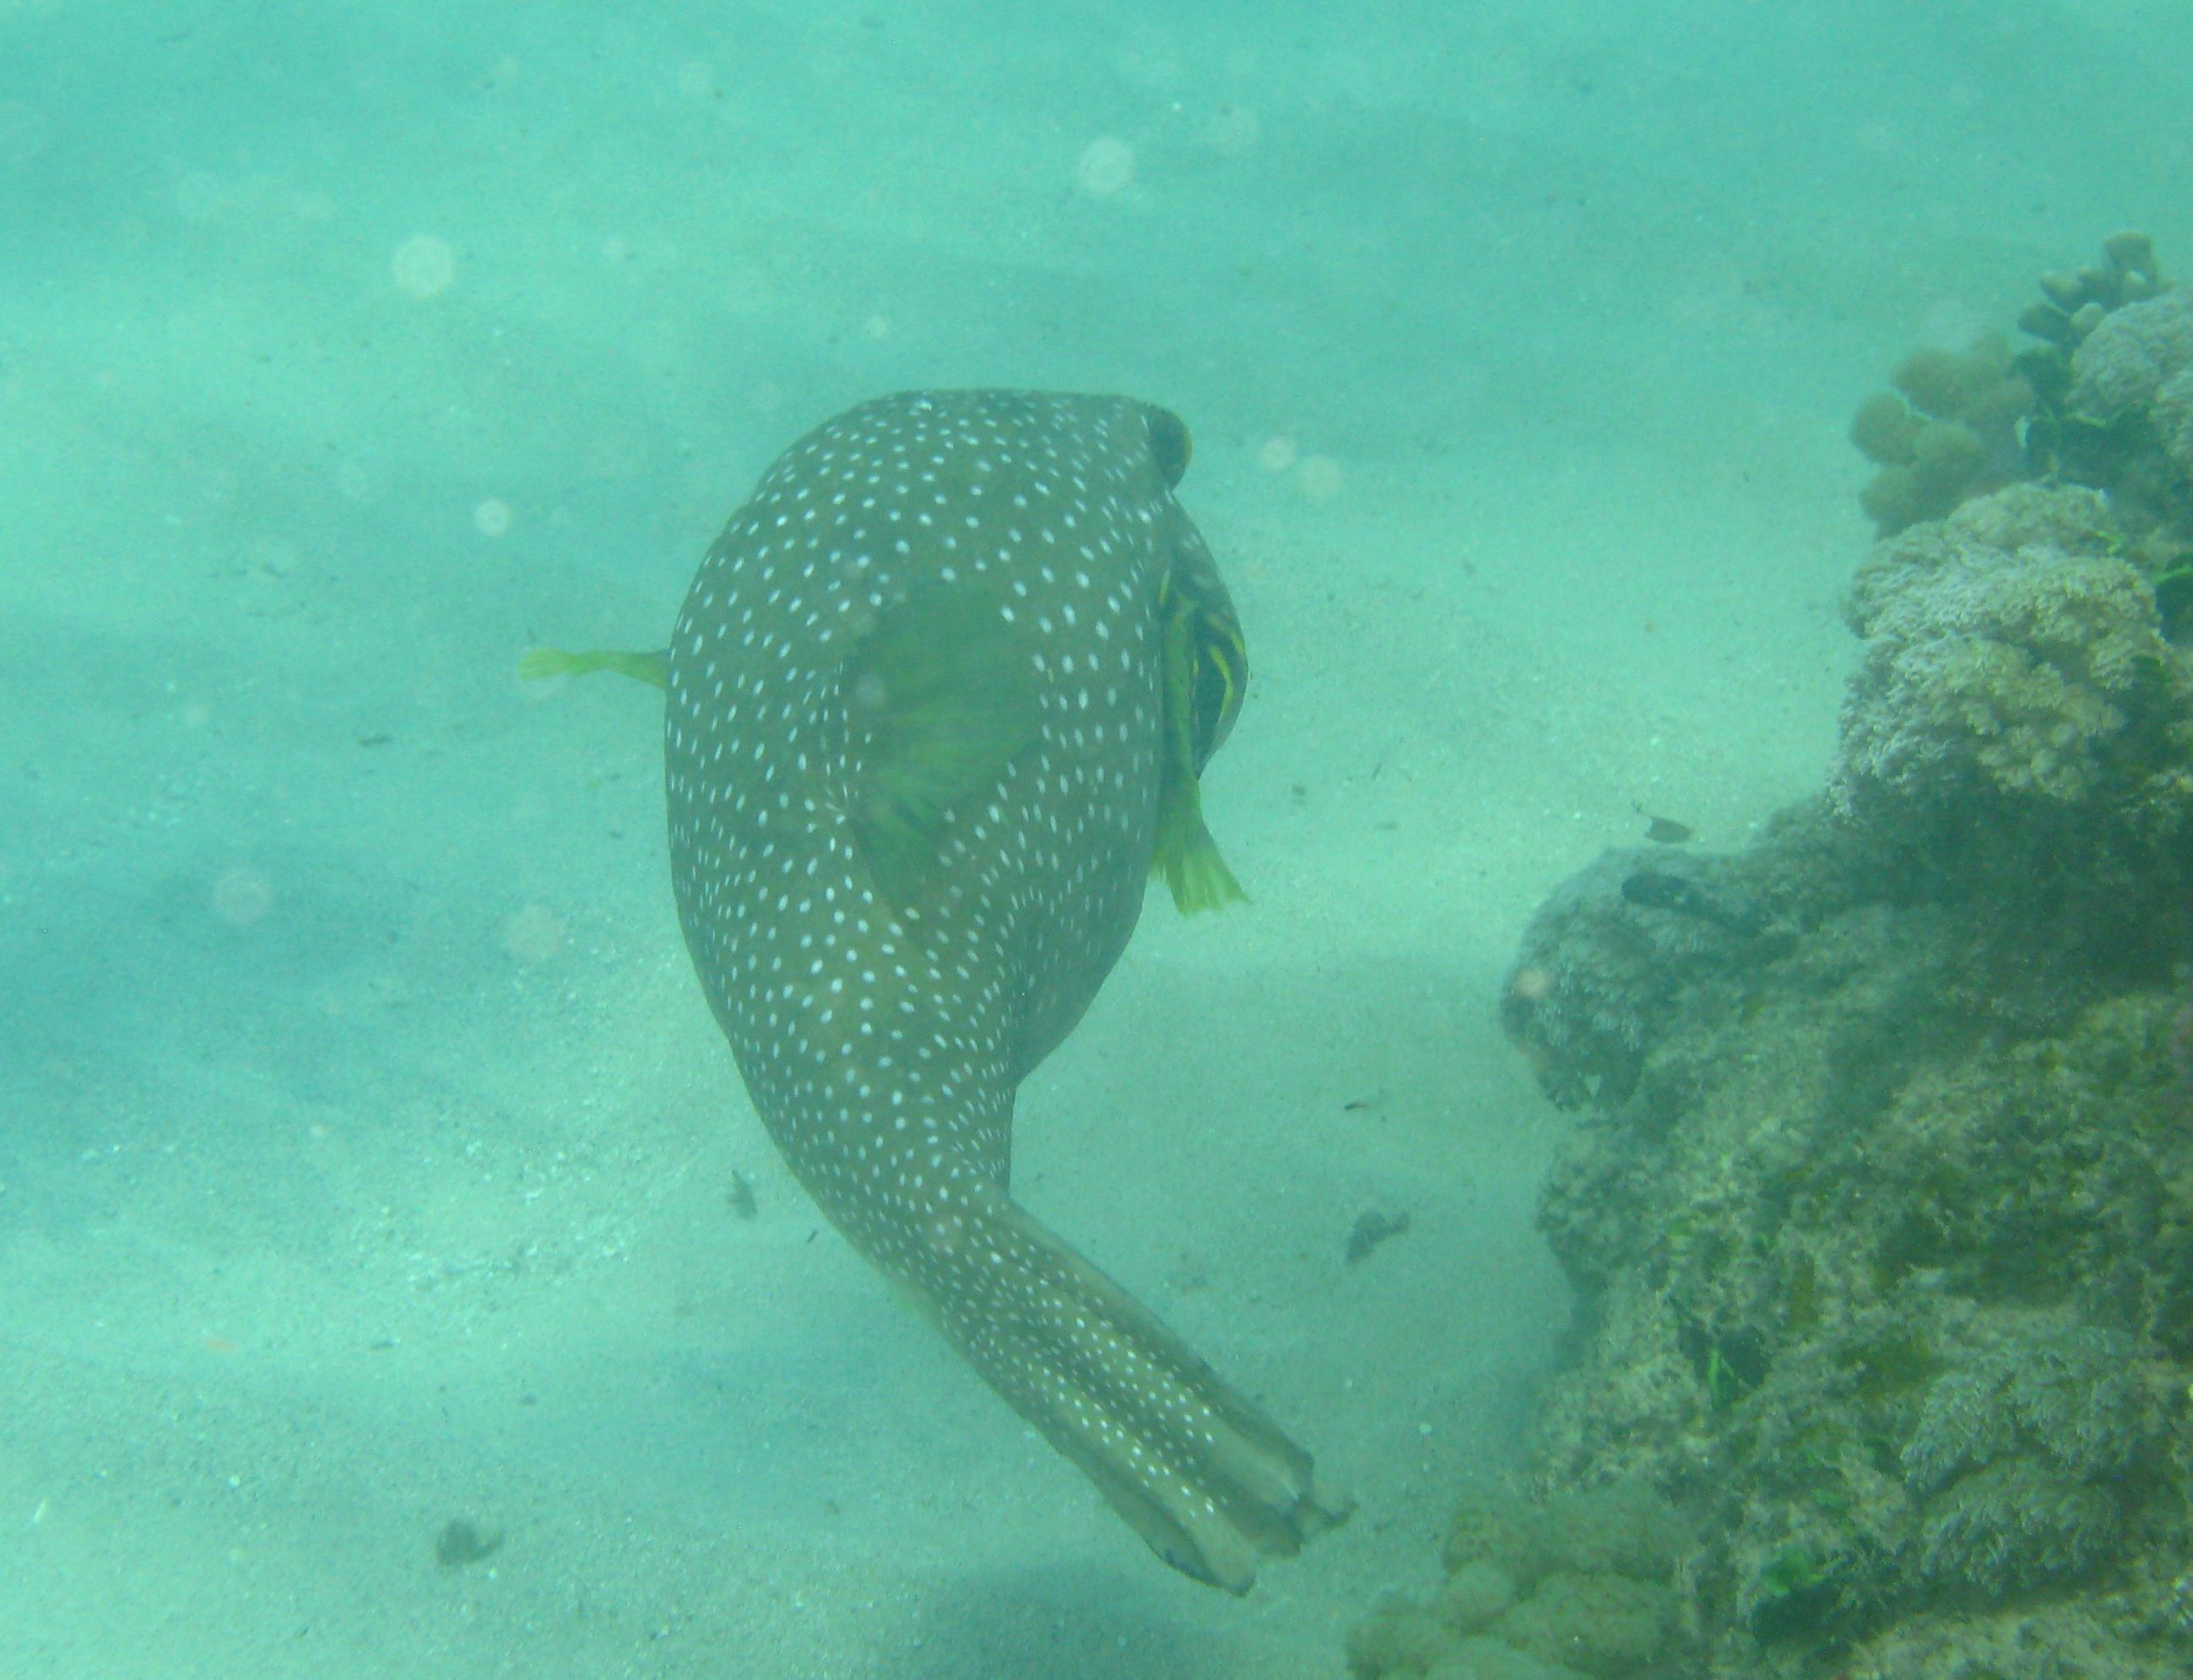Fish: (448, 194, 1560, 1641)
